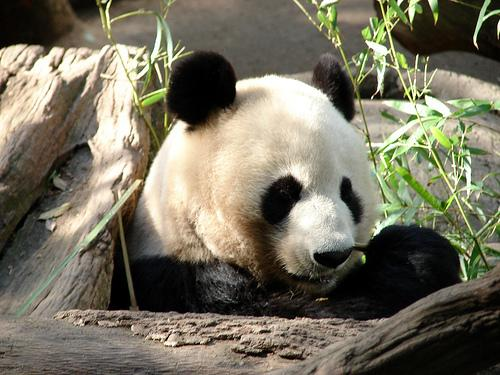panda: (126, 51, 459, 317)
